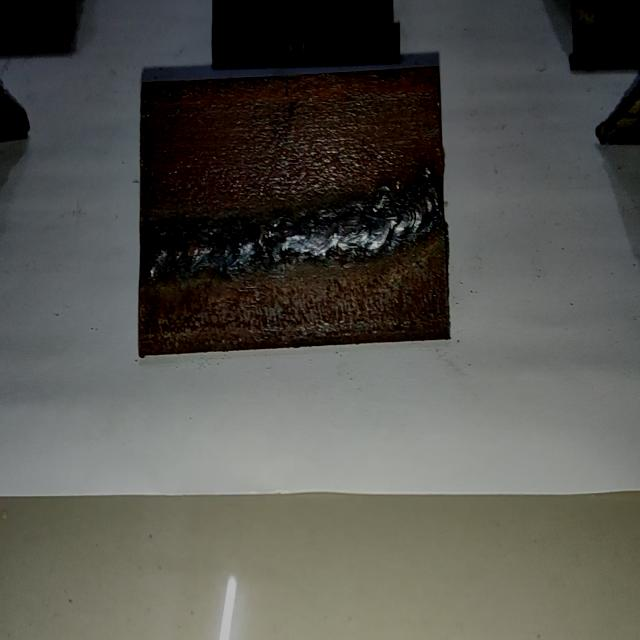Good Weld: (144, 183, 437, 280)
